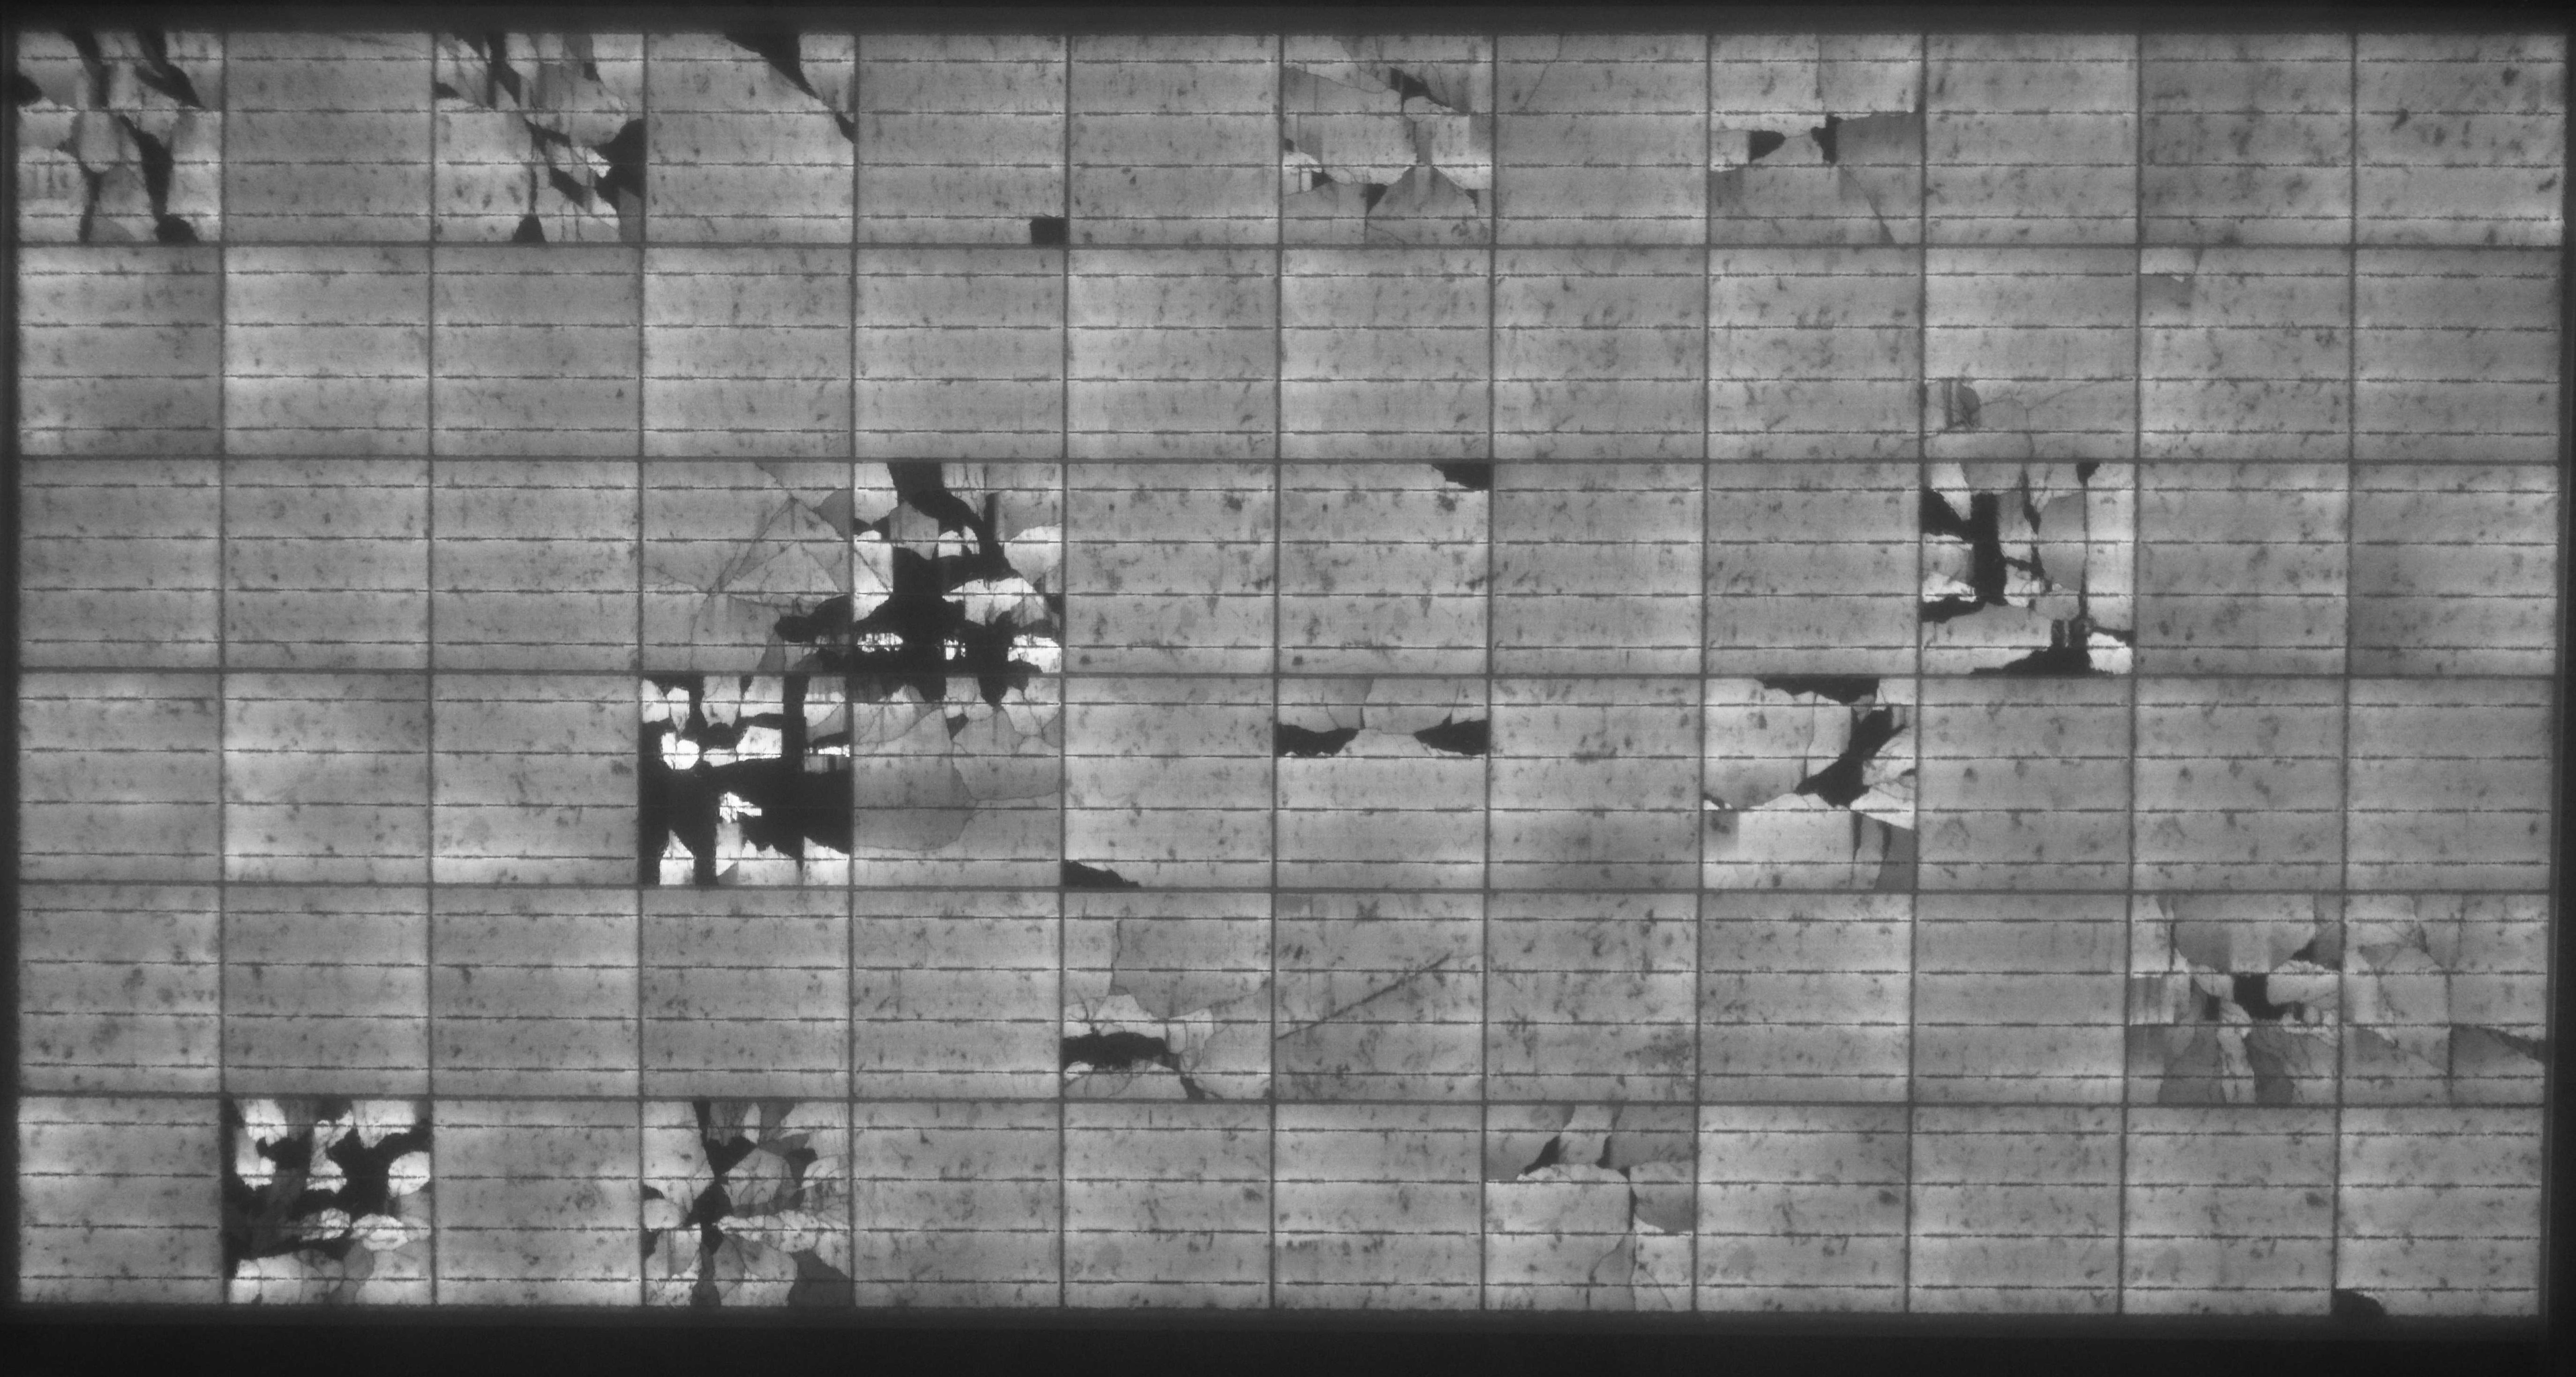5,11: (0, 12, 242, 266), (0, 1075, 242, 1328), (2341, 14, 2576, 271)
